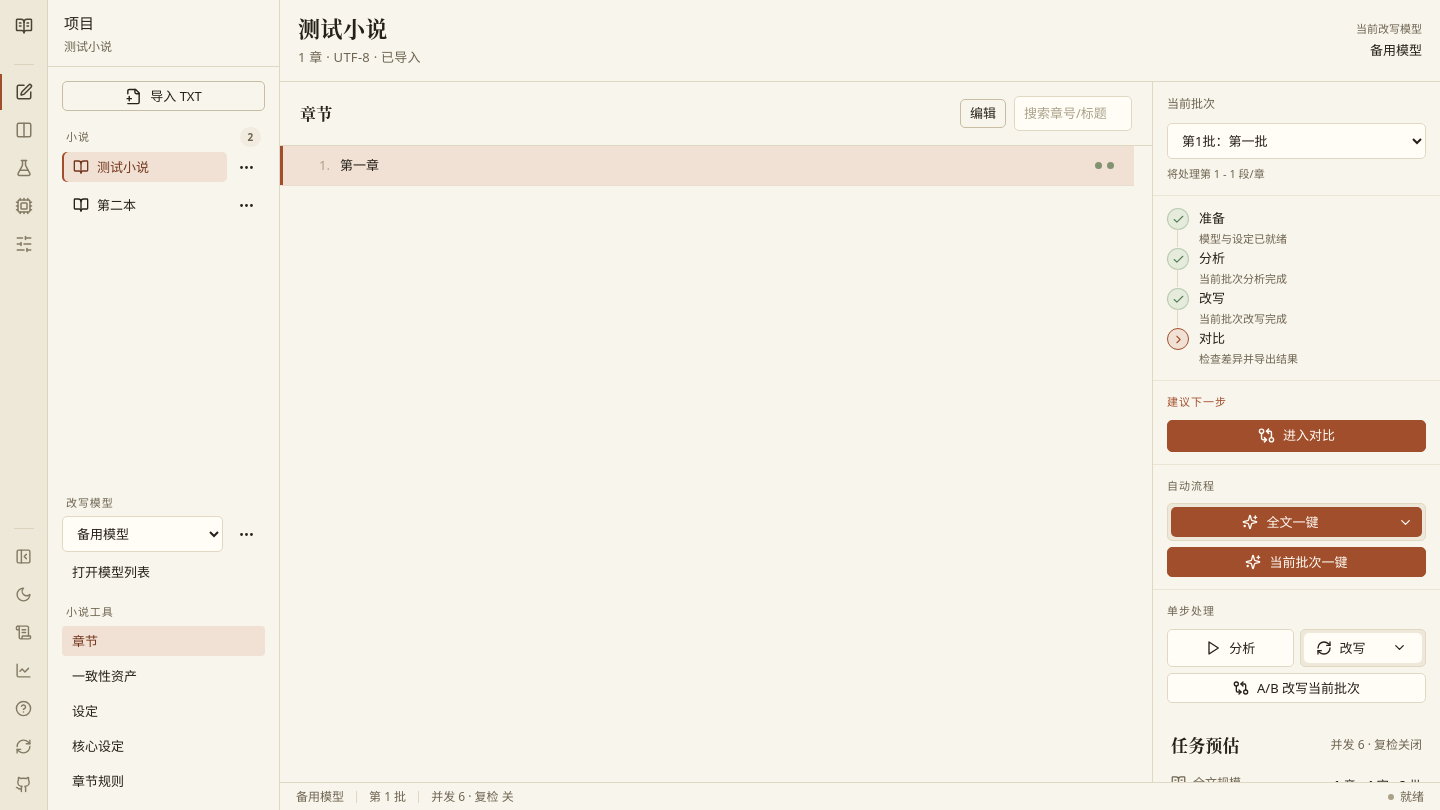
Scenario: App feature behavior › restores the last selected rewrite model from app settings
Expected: the dropdown named "改写模型" shows "备用模型", [62, 516, 223, 552]
Click the button named "管理模型": (24,206) [6, 188, 42, 224]
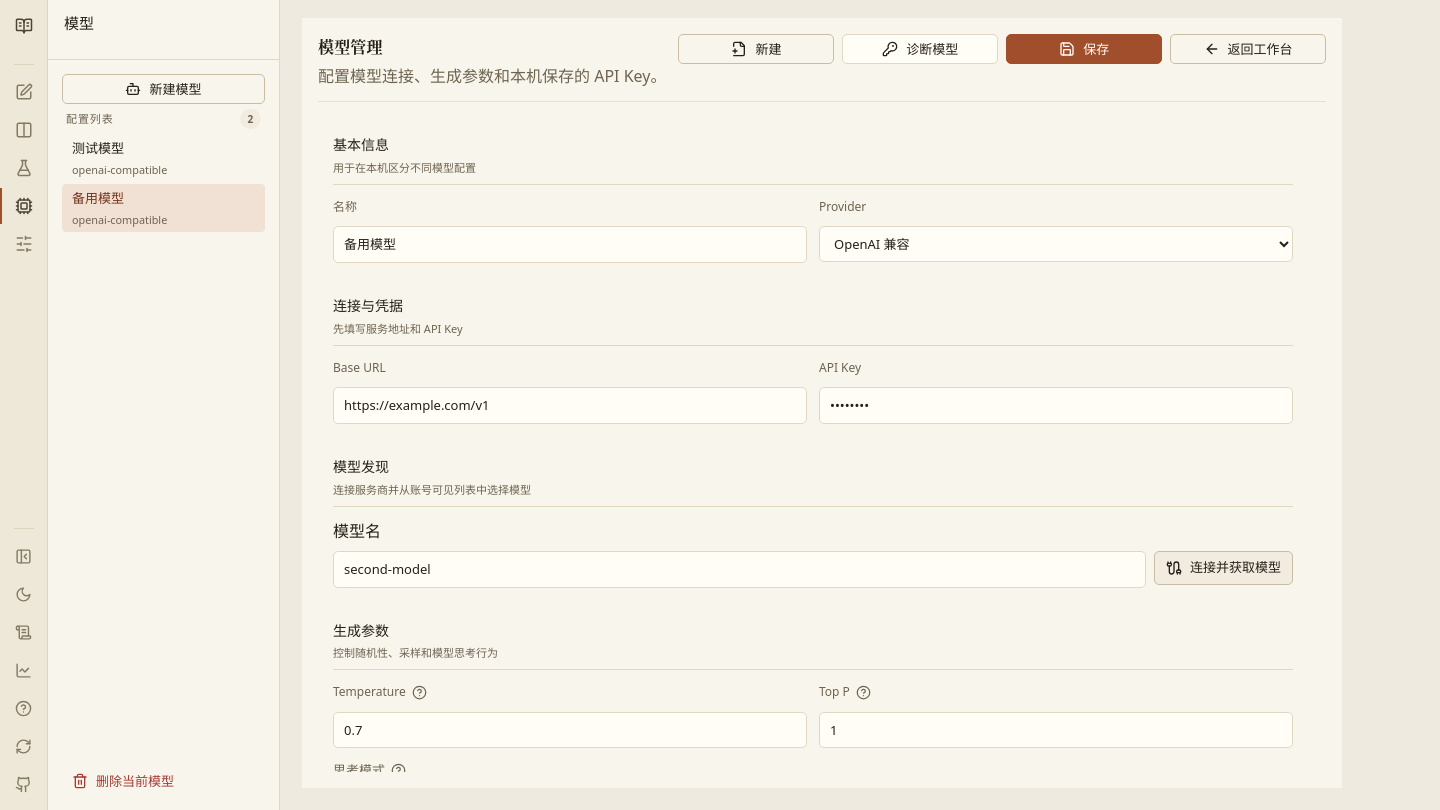
Expected: the dropdown showing "second-model" is shown, [333, 551, 1146, 588]
